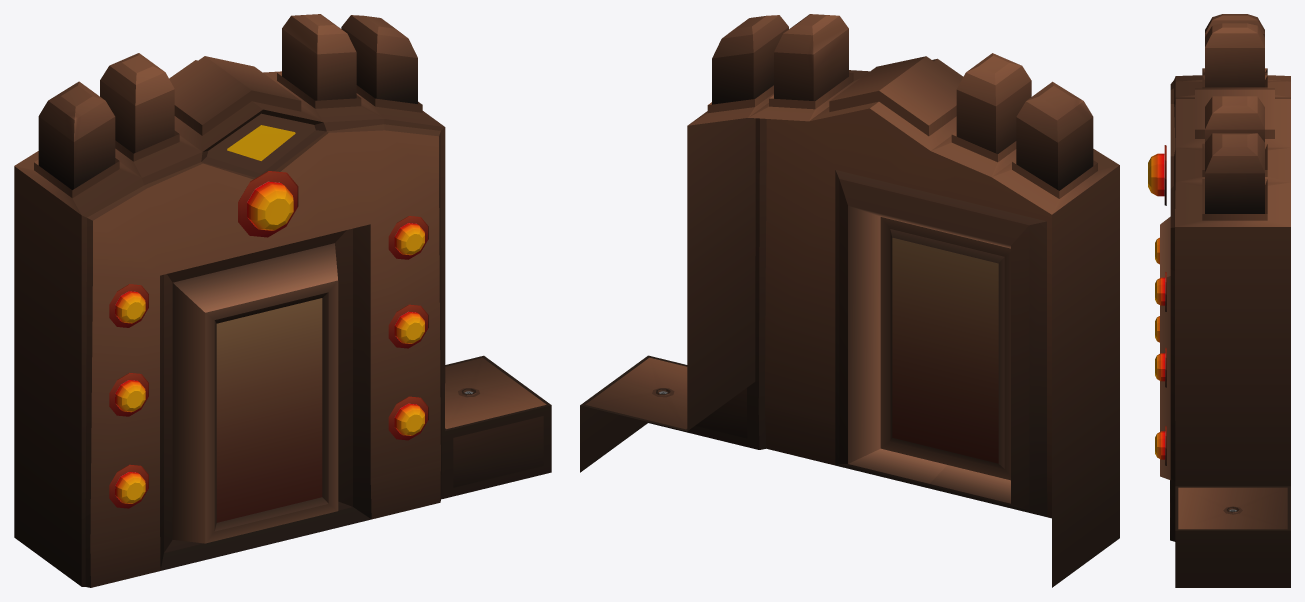
The model's file is chargeminigame.fbx.
The picture shows the model from 3 angles, left to right: view 1: azimuth 30°, elevation 25°; view 2: azimuth 150°, elevation 25°; view 3: azimuth 270°, elevation 25°; orthographic projection. The views are drawn at different scales.
Visible parts, largest first — view 1: chargeminigame; view 2: chargeminigame; view 3: chargeminigame.
Part boxes in pixels (left/top/right/bottom): chargeminigame: left=14, top=14, right=551, bottom=587; chargeminigame: left=580, top=14, right=1119, bottom=587; chargeminigame: left=1148, top=14, right=1290, bottom=587.
Bounding box in the file's own units: 16.92 × 16.4 × 5.22.
